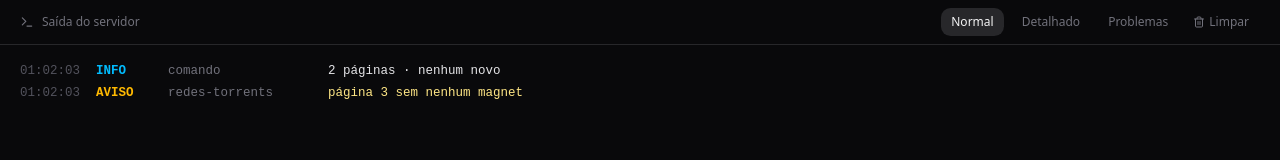
Test: LogPanel › mostra origem e nível e filtra por problemas
Expected: the text "comando" is shown, 168,64 -> 220,78
Expected: the text "INFO" is shown, 96,64 -> 126,78
Click the radio button labelled "Problemas" at (1138, 22), box 1098,8 -> 1178,36
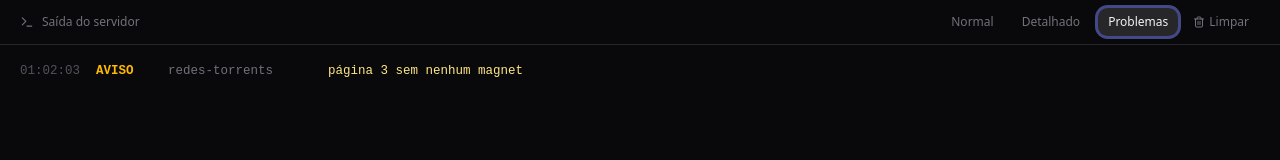
Result: the text "2 páginas · nenhum novo" is gone
Result: the text "página 3 sem nenhum magnet" is shown at 328,64 -> 523,78
